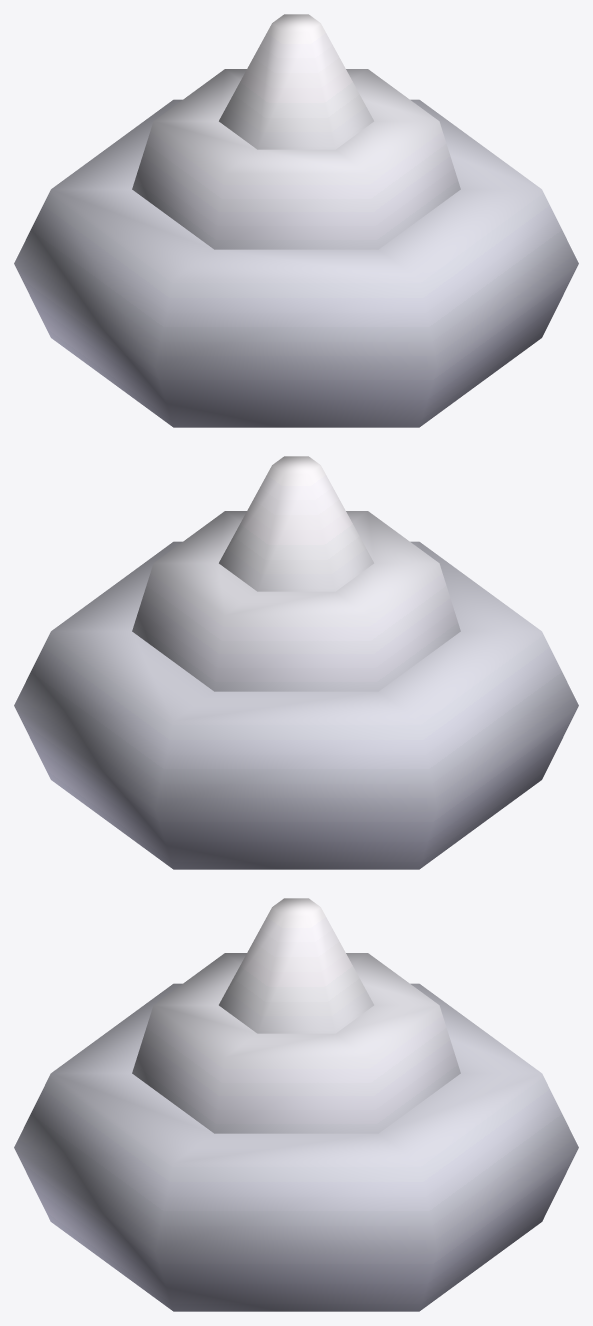
The model's file is whipped-cream.1af11f6c9e.glb.
3 renders of one model, top to bottom at view 1: azimuth 30°, elevation 25°; view 2: azimuth 150°, elevation 25°; view 3: azimuth 270°, elevation 25°, orthographic.
Visible parts, largest first — view 1: whipped-cream; view 2: whipped-cream; view 3: whipped-cream.
Part boxes in pixels (<box>): whipped-cream: <box>14,14,578,427</box>; whipped-cream: <box>14,456,578,869</box>; whipped-cream: <box>14,898,578,1311</box>.
Bounding box in the file's own units: 0.1363 × 0.0967 × 0.1573.
Materials: 1 (1 with a texture image).
